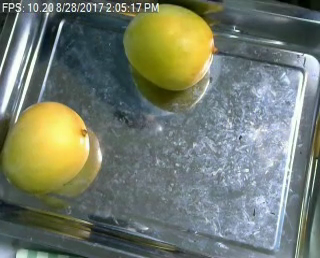Mango: (118, 1, 222, 98), (4, 97, 92, 198)
